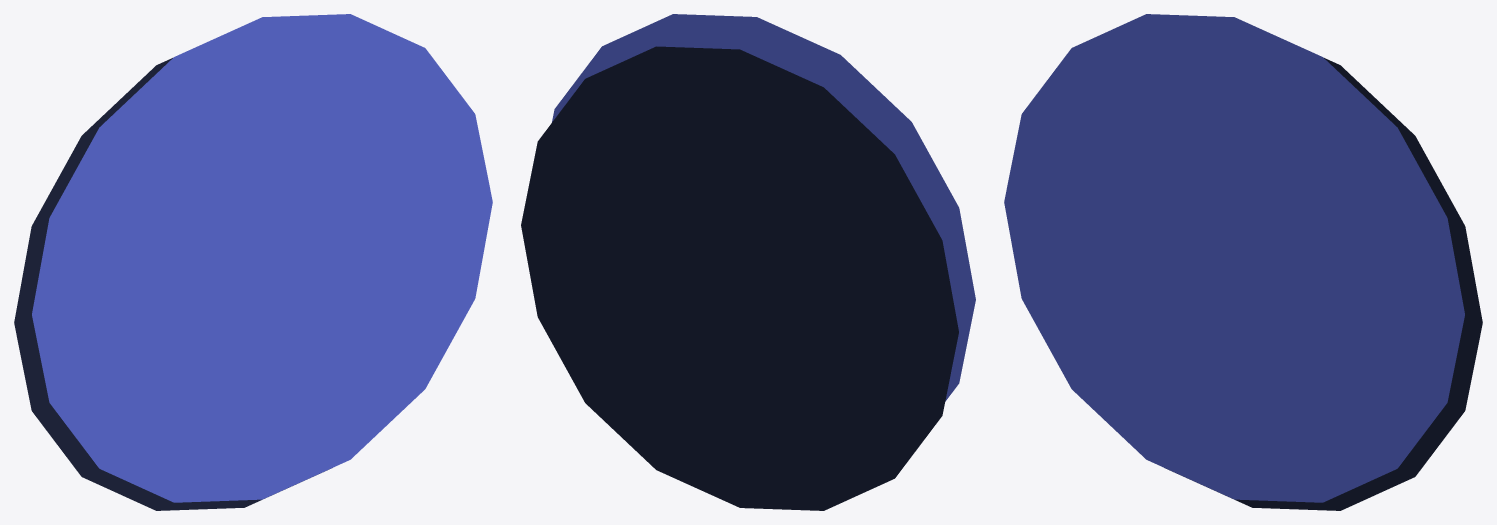
The model's file is spawn_blue.glb.
The picture shows the model from 3 angles, left to right: view 1: azimuth 30°, elevation 25°; view 2: azimuth 150°, elevation 25°; view 3: azimuth 330°, elevation 25°; orthographic projection. The views are drawn at different scales.
Parts seen in each view (by area): view 1: spawn_point_blue; view 2: spawn_point_blue; view 3: spawn_point_blue.
Boxes of the visible parts, x1,y1,x2,y2 form: spawn_point_blue: [14, 14, 492, 510]; spawn_point_blue: [521, 14, 975, 510]; spawn_point_blue: [1004, 14, 1482, 510].
Size of the model in its own units: 1.5 by 1.57 by 0.1.
3 materials, 3 textured.
